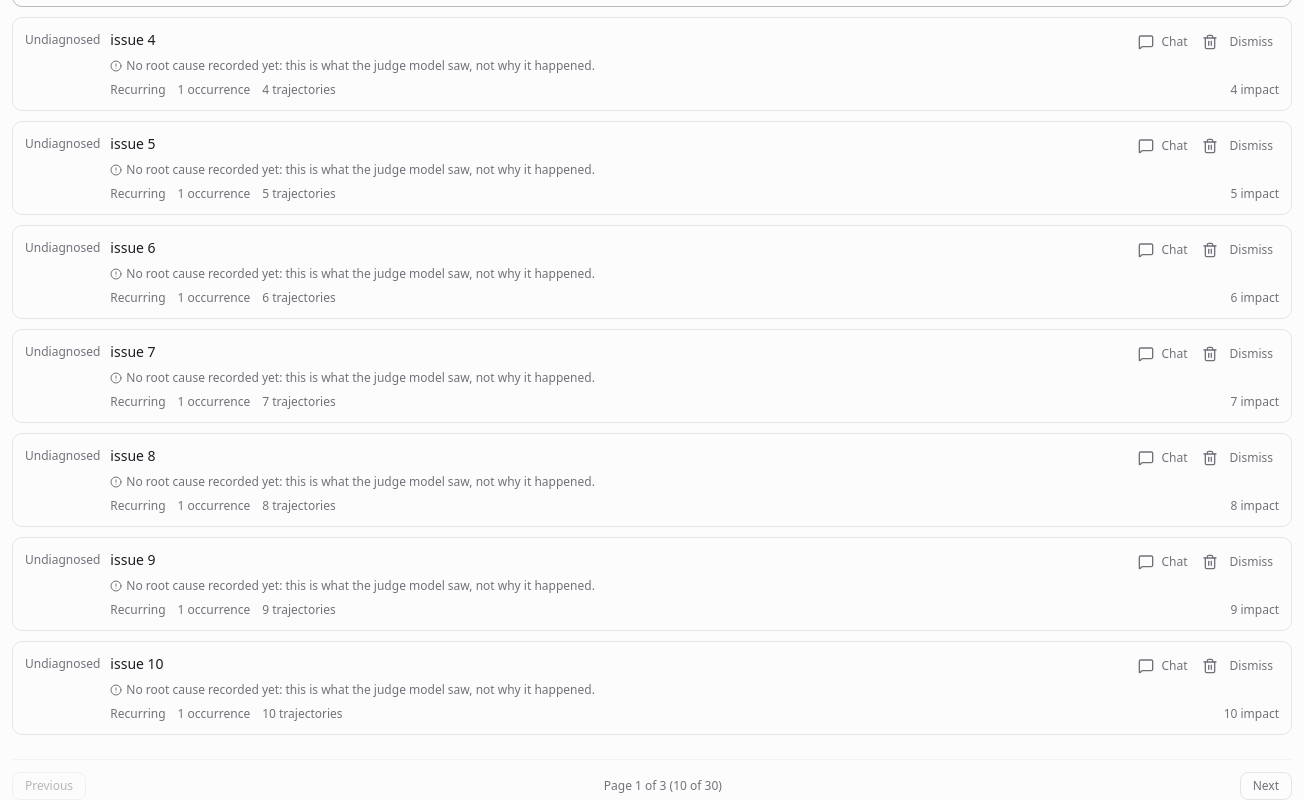
Test: the insights list's paging › offers no page after a full one that divides the total exactly
(page scrolled)
Click the button "Next": x=1266, y=786 [1240,772,1292,799]
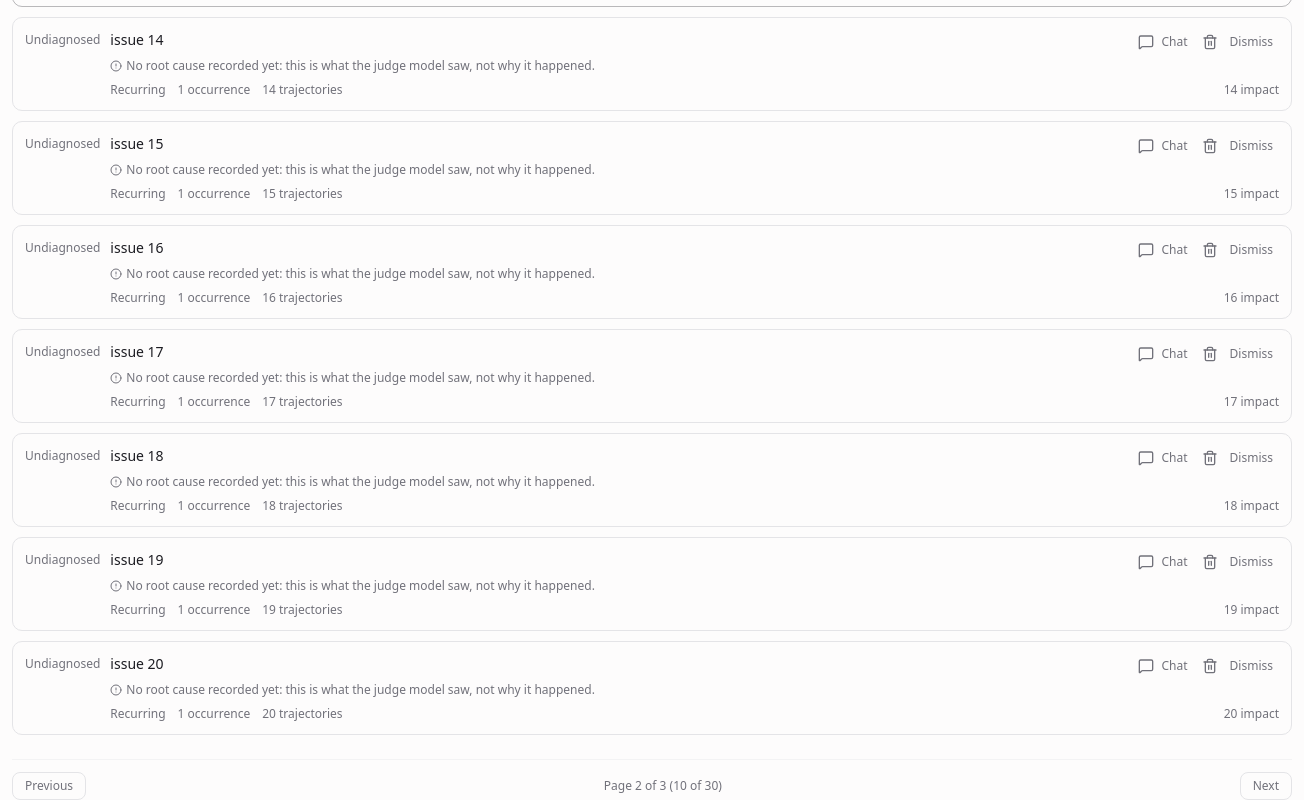
Click the button "Next": x=1266, y=786 [1240,772,1292,799]
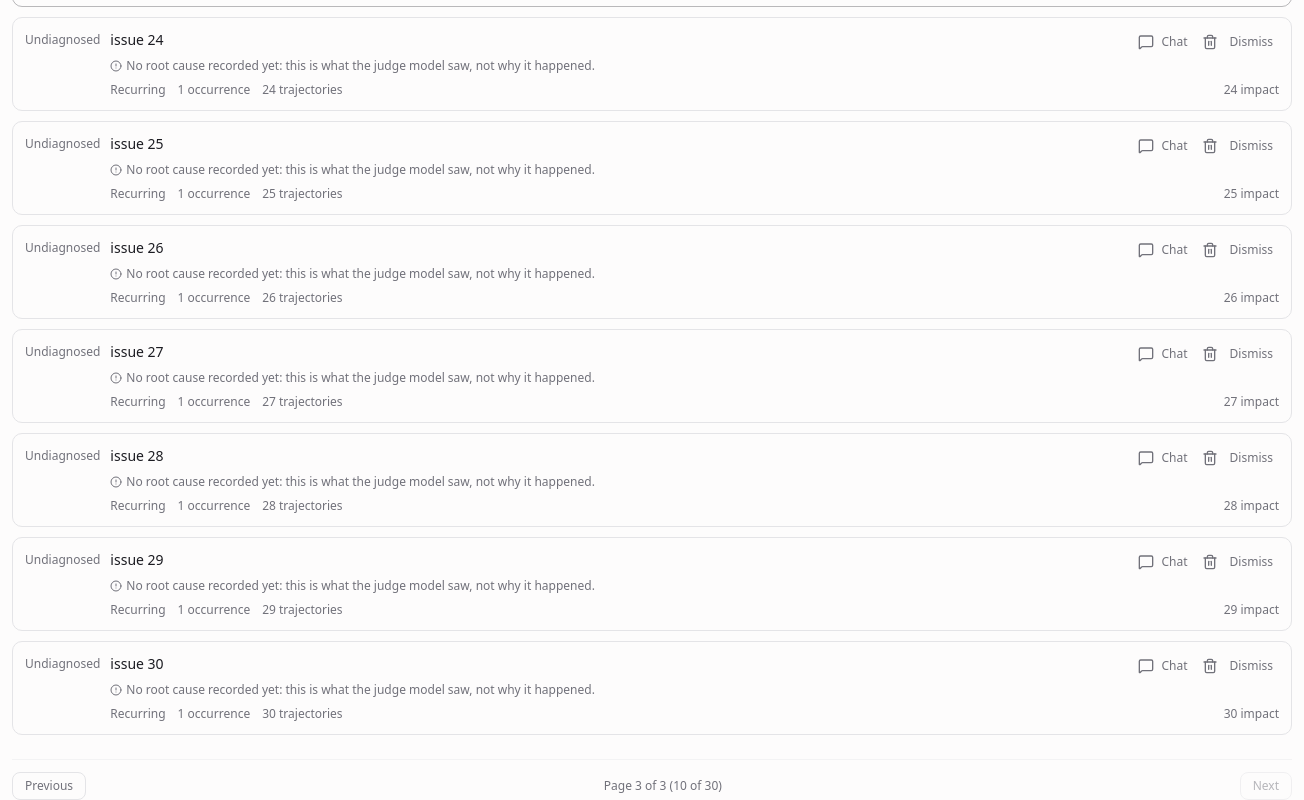
expect the button "Previous" is enabled: met, box [12,772,86,799]
expect the text "Page 3 of 3 (10 of 30)" is shown: met, box [604,778,722,794]
expect the button "Next" is disabled: met, box [1240,772,1292,799]
